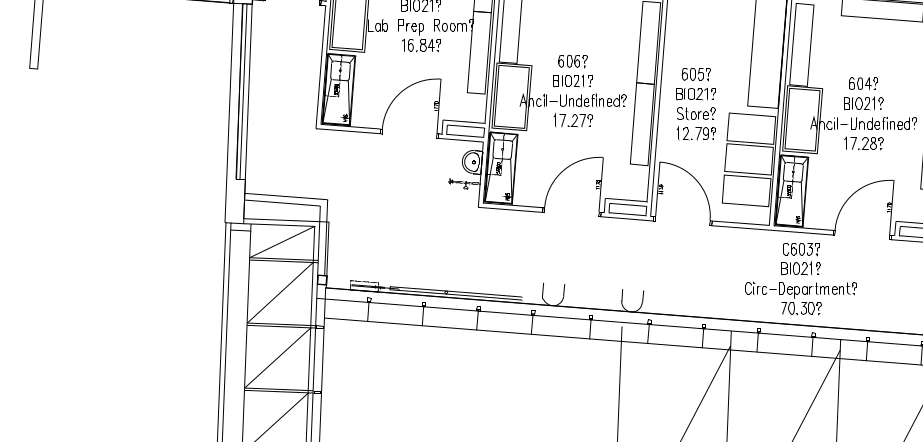door: (375, 67, 445, 142), (535, 145, 605, 219), (652, 159, 722, 233), (829, 170, 899, 244)
